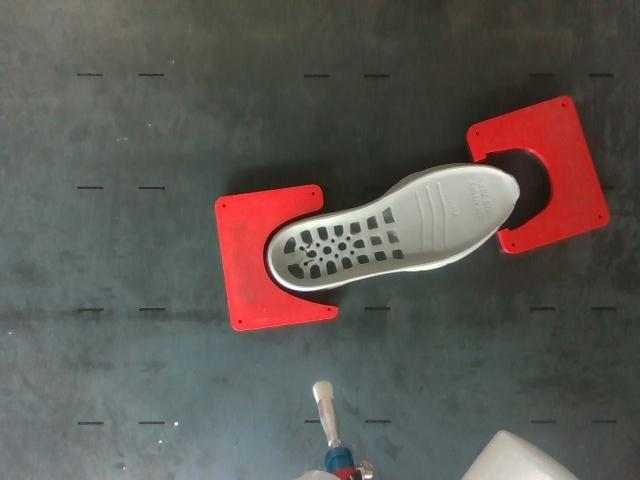shoes: (271, 166, 517, 289)
